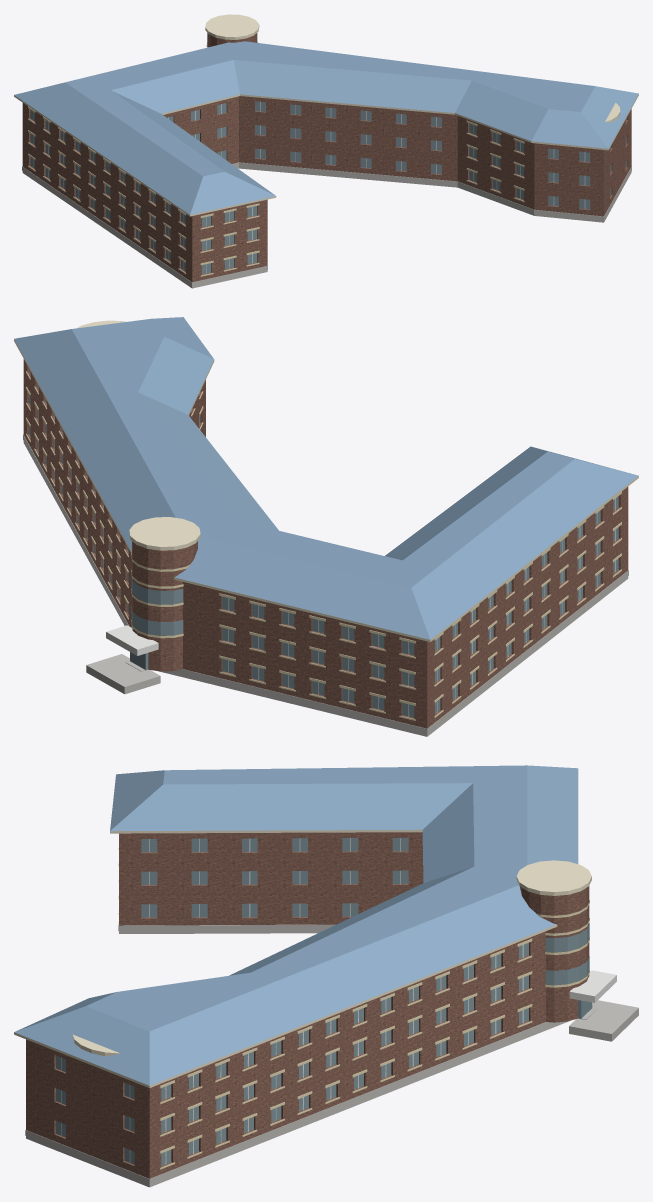
3 renders of one model, top to bottom at view 1: azimuth 30°, elevation 25°; view 2: azimuth 150°, elevation 25°; view 3: azimuth 270°, elevation 25°, orthographic. The views are drawn at different scales.
Visible parts, largest first — view 1: D7 blue grey roof, D7 dark brown brick, D7 blue grey glass, D7 granite plinth and paving, D7 cream fascia and soffit, D7 cream window trims, D7 white window frames; view 2: D7 blue grey roof, D7 dark brown brick, D7 blue grey glass, D7 granite plinth and paving, D7 cream window trims, D7 cream fascia and soffit, D7 white window frames, D7 white sign canopy; view 3: D7 blue grey roof, D7 dark brown brick, D7 blue grey glass, D7 granite plinth and paving, D7 cream fascia and soffit, D7 cream window trims, D7 white window frames, D7 white sign canopy.
Part boxes in pixels (x1=…): D7 blue grey roof: x1=14, y1=41, x2=638, y2=214; D7 dark brown brick: x1=22, y1=33, x2=631, y2=282; D7 blue grey glass: x1=30, y1=101, x2=626, y2=274; D7 granite plinth and paving: x1=22, y1=162, x2=631, y2=288; D7 cream fascia and soffit: x1=14, y1=14, x2=638, y2=216; D7 cream window trims: x1=28, y1=42, x2=524, y2=276; D7 white window frames: x1=33, y1=101, x2=585, y2=273; D7 blue grey roof: x1=14, y1=317, x2=638, y2=639; D7 dark brown brick: x1=23, y1=359, x2=628, y2=728; D7 blue grey glass: x1=29, y1=369, x2=618, y2=717; D7 granite plinth and paving: x1=23, y1=434, x2=628, y2=736; D7 cream window trims: x1=26, y1=371, x2=621, y2=720; D7 cream fascia and soffit: x1=14, y1=320, x2=638, y2=642; D7 white window frames: x1=38, y1=385, x2=615, y2=716; D7 white sign canopy: x1=106, y1=625, x2=158, y2=655; D7 blue grey roof: x1=14, y1=765, x2=578, y2=1085; D7 dark brown brick: x1=26, y1=832, x2=589, y2=1178; D7 blue grey glass: x1=56, y1=837, x2=592, y2=1165; D7 granite plinth and paving: x1=25, y1=922, x2=638, y2=1187; D7 cream fascia and soffit: x1=14, y1=829, x2=591, y2=1087; D7 cream window trims: x1=118, y1=848, x2=589, y2=1169; D7 white window frames: x1=61, y1=838, x2=523, y2=1164; D7 white sign canopy: x1=569, y1=970, x2=616, y2=1002.
Bounding box in the file's own units: 70.92 × 14.6 × 58.98.
Materials: 9 (1 with a texture image).
